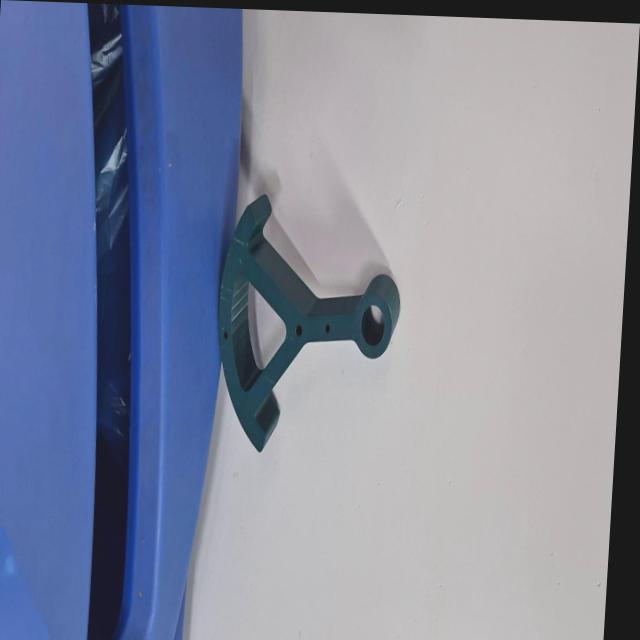haptic: (207, 190, 407, 460)
